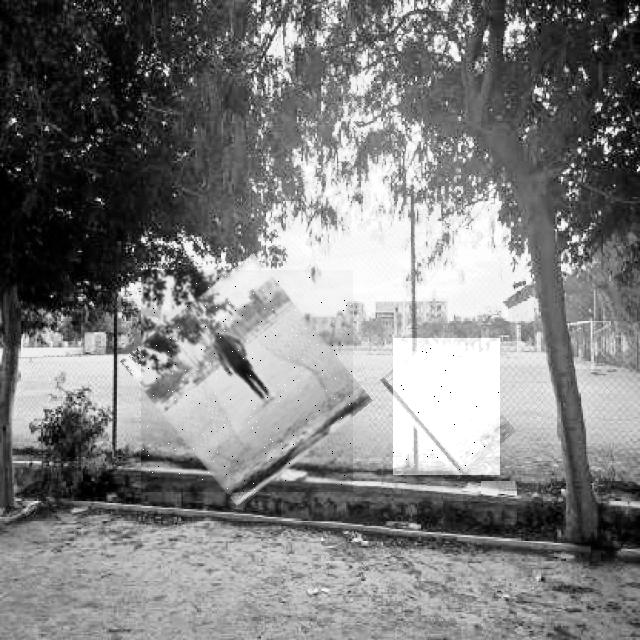anomaly-fence: (141, 270, 353, 492), (393, 338, 500, 475)
